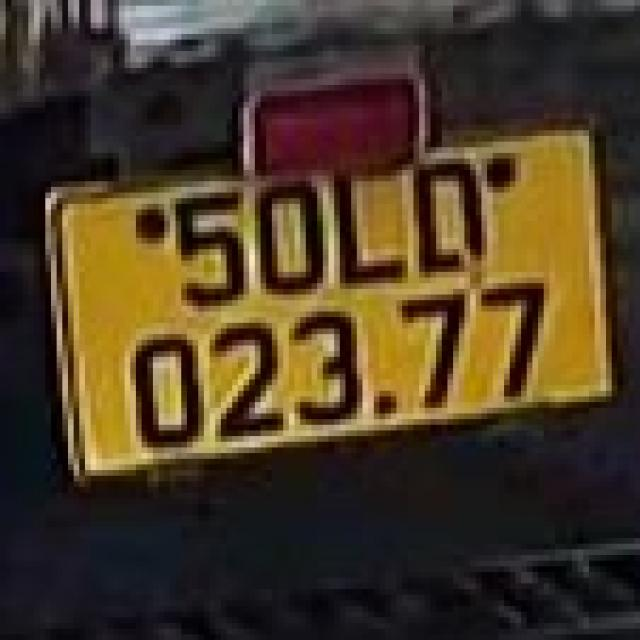0: (254, 180, 325, 298), (132, 335, 204, 449)
2: (212, 322, 285, 432)
3: (291, 308, 361, 428)
5: (174, 188, 246, 310)
7: (480, 281, 545, 402), (402, 291, 465, 413)
D: (414, 161, 486, 276)
L: (334, 170, 407, 290)
